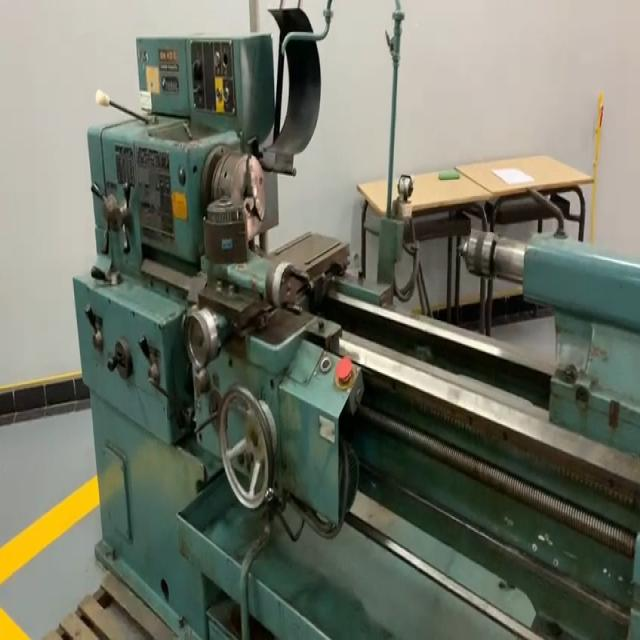tour parallele: (72, 5, 640, 640)
